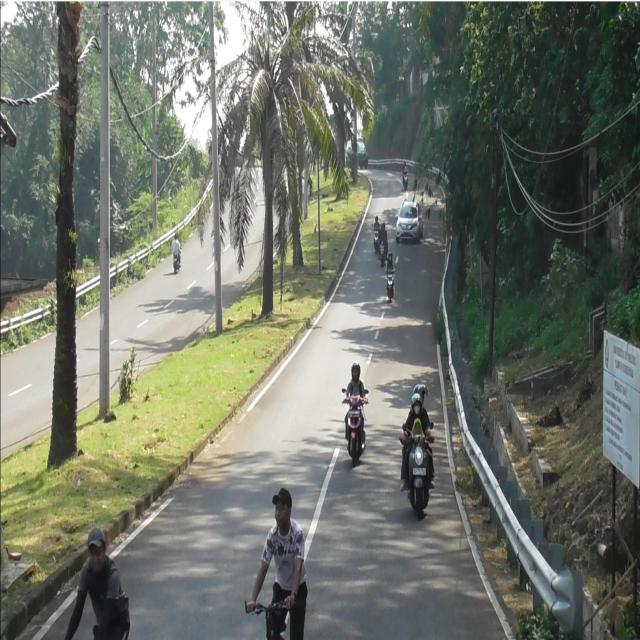motorcycle: (401, 420, 435, 521), (342, 387, 368, 466), (386, 268, 395, 301), (172, 250, 182, 272), (378, 241, 386, 268), (372, 227, 378, 253), (403, 170, 409, 190)
person: (248, 484, 310, 640), (62, 531, 132, 640), (402, 395, 432, 442), (342, 364, 368, 406), (411, 383, 428, 410), (408, 418, 424, 443), (171, 235, 182, 253), (385, 254, 395, 273), (379, 223, 387, 245), (373, 216, 380, 230), (402, 160, 408, 174)
rider_region: (400, 377, 439, 520), (341, 355, 370, 464), (170, 231, 184, 276), (385, 251, 396, 301), (379, 222, 388, 264), (371, 214, 379, 252), (400, 158, 410, 188)
